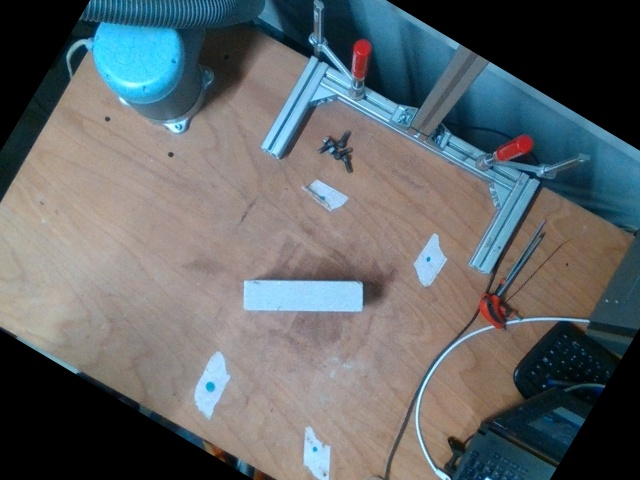brick-side: (241, 280, 362, 311)
